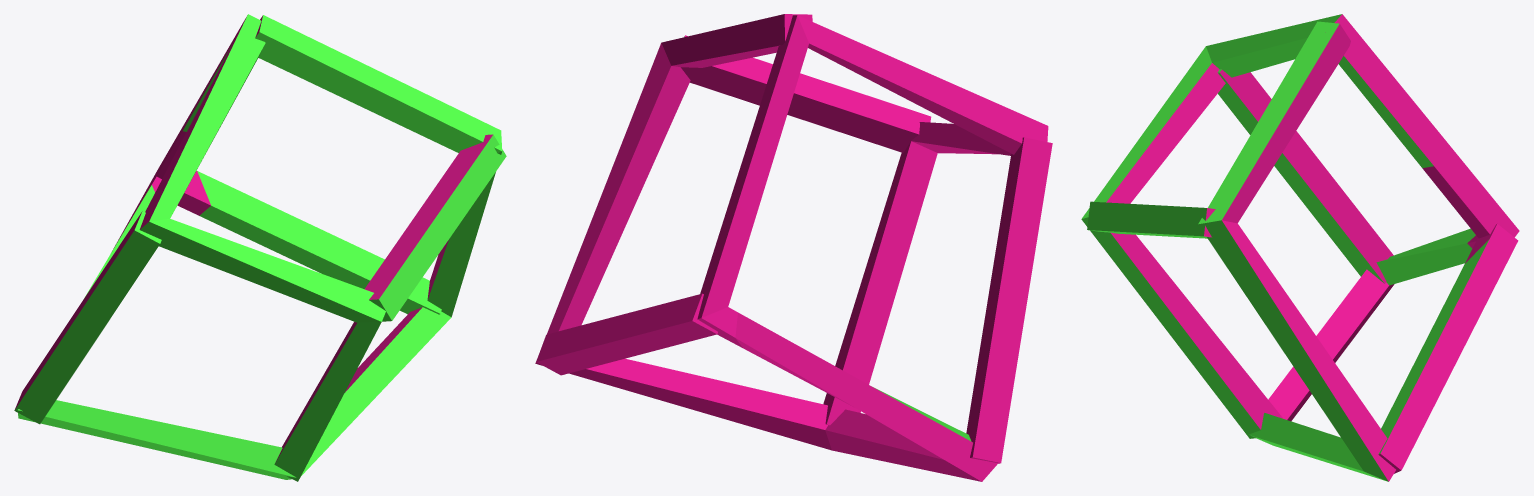
File: SM_Ana_CubeIso.fbx
3 views of the same model, side by side, from view 1: azimuth 30°, elevation 25°; view 2: azimuth 150°, elevation 25°; view 3: azimuth 270°, elevation 25° (orthographic). The views are drawn at different scales.
Parts seen in each view (by area): view 1: Cube.007; view 2: Cube.007; view 3: Cube.007.
Part boxes in pixels (x1=…): Cube.007: x1=14, y1=14, x2=506, y2=481; Cube.007: x1=535, y1=14, x2=1052, y2=481; Cube.007: x1=1081, y1=14, x2=1519, y2=481.
Size of the model in its own units: 424 by 406 by 375.
